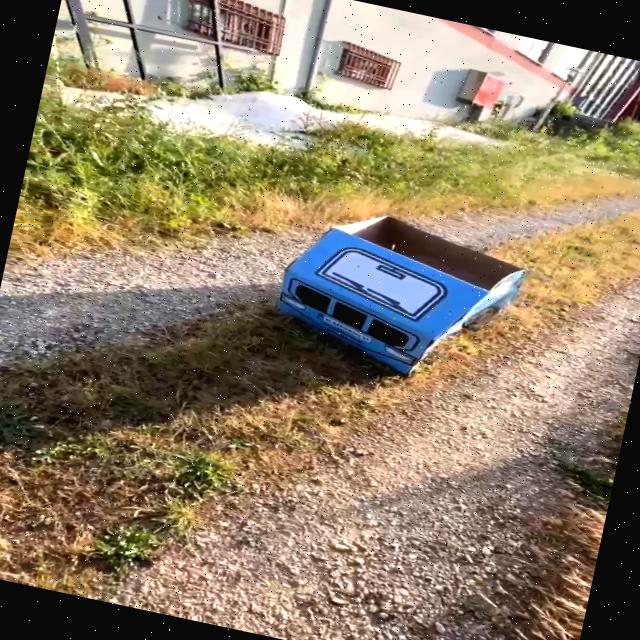blue_car: (194, 163, 564, 423)
